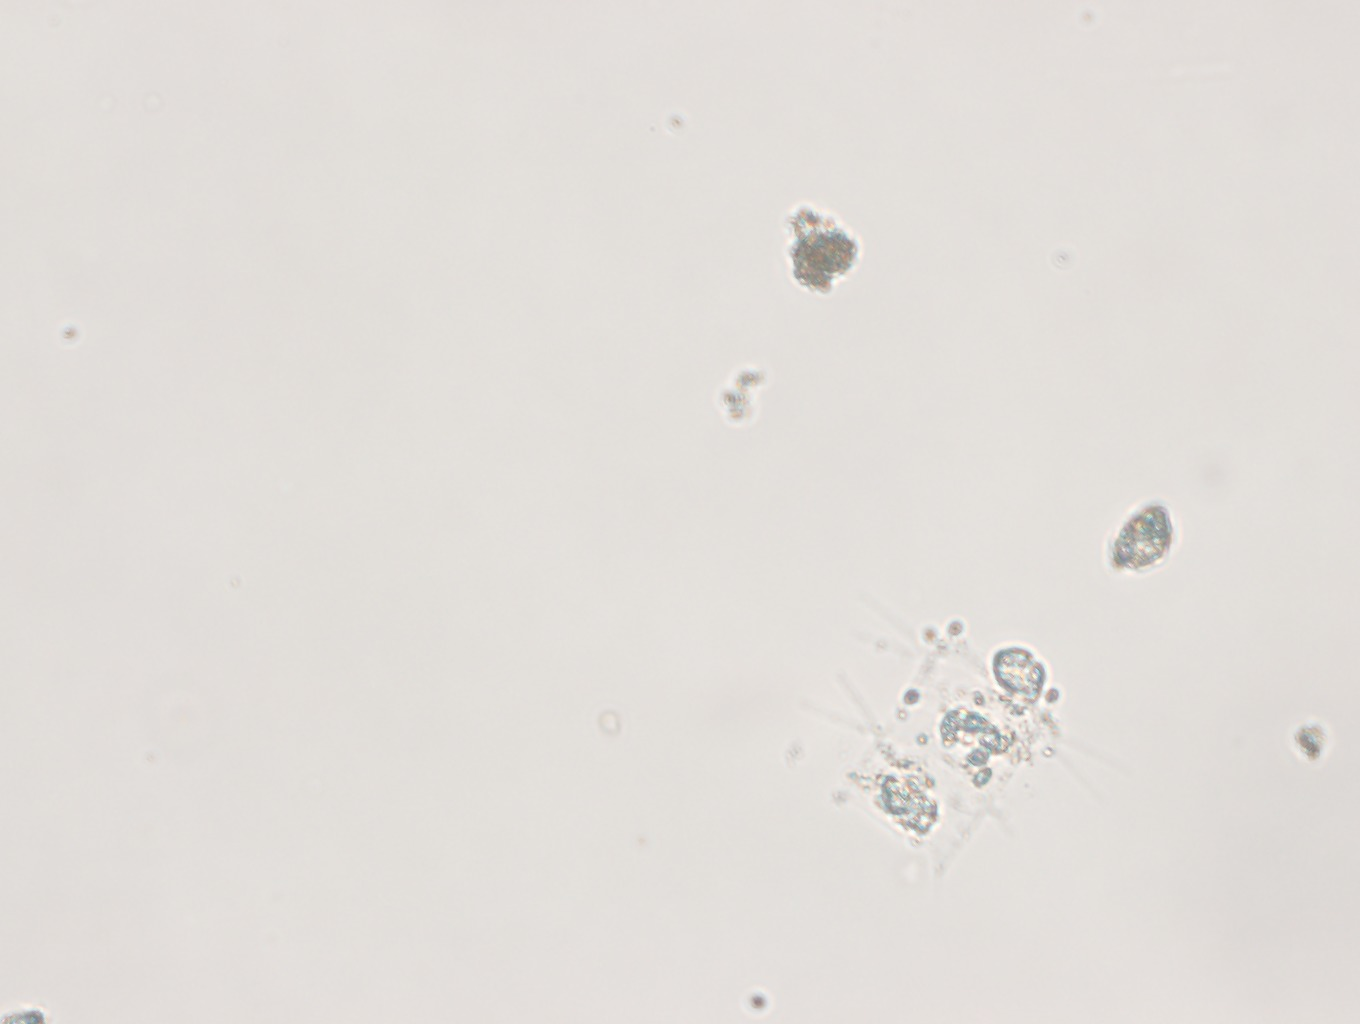chaetoceros: (798, 574, 1114, 874)
